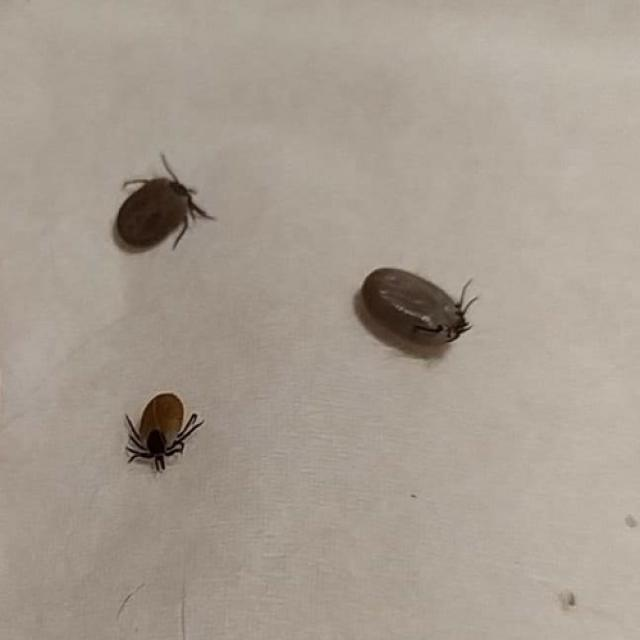Ixodes Ricinus-F-Fed: (109, 154, 218, 257), (119, 391, 207, 477)
